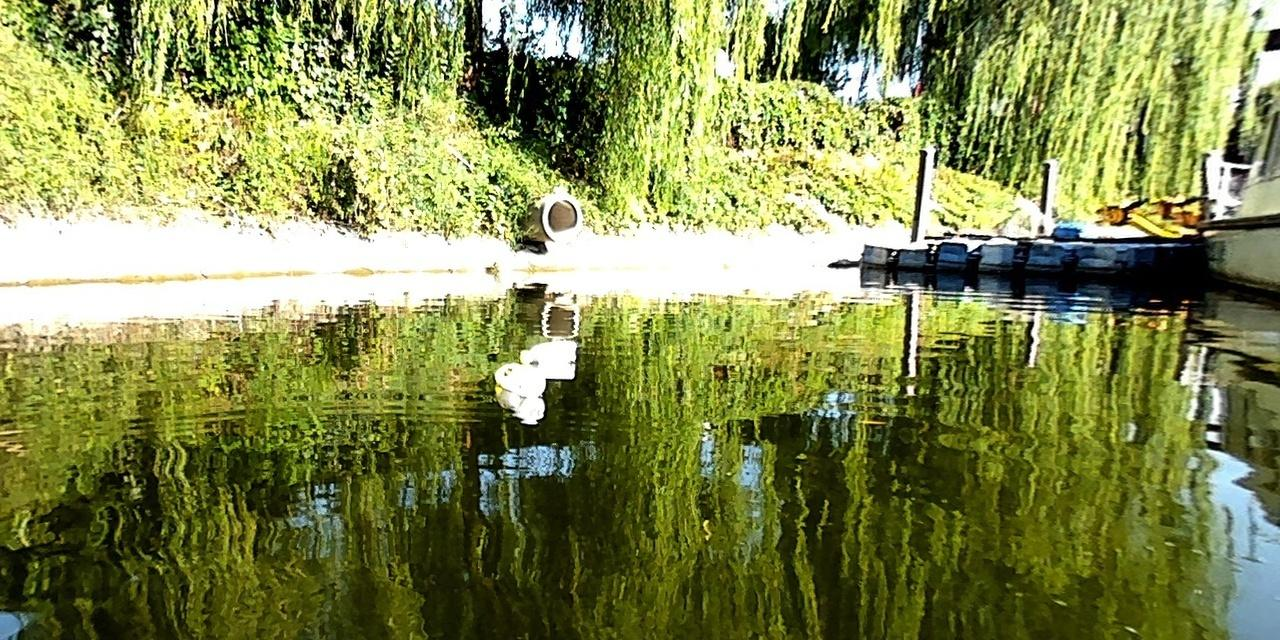bottle: (494, 363, 544, 395), (517, 338, 574, 362)
